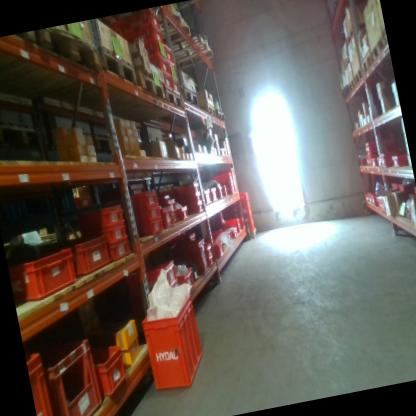pallet: (38, 21, 102, 86), (98, 37, 139, 96), (134, 61, 166, 109), (163, 79, 186, 116), (343, 23, 368, 49), (12, 30, 40, 53), (367, 34, 388, 64), (181, 82, 201, 112), (198, 100, 216, 123), (359, 51, 374, 77), (213, 103, 226, 124), (352, 67, 364, 88), (347, 77, 355, 97), (381, 27, 388, 46), (247, 227, 258, 239)
small_load_carrier: (137, 289, 209, 393), (7, 238, 82, 310), (42, 332, 105, 416), (92, 340, 132, 402), (68, 229, 113, 280), (26, 346, 58, 416), (123, 259, 181, 296), (69, 196, 126, 231), (120, 8, 162, 36), (165, 237, 208, 264), (124, 22, 164, 48), (133, 216, 166, 243), (125, 184, 160, 208), (103, 17, 129, 49), (141, 37, 168, 65), (175, 261, 199, 292), (101, 221, 130, 246), (105, 241, 133, 266), (130, 202, 162, 222), (146, 54, 170, 80), (157, 203, 176, 231), (167, 182, 200, 198), (362, 135, 389, 153), (193, 252, 212, 276), (175, 192, 203, 208), (379, 151, 401, 171), (210, 170, 235, 186), (387, 153, 408, 172), (225, 215, 243, 237), (177, 203, 205, 217), (176, 204, 193, 227), (397, 178, 414, 195), (375, 195, 389, 213), (160, 71, 174, 89), (228, 168, 238, 193), (167, 61, 179, 81), (208, 185, 219, 206), (213, 239, 225, 258), (219, 182, 232, 199), (163, 41, 173, 63), (201, 188, 213, 206), (203, 238, 215, 255), (170, 77, 181, 95), (207, 251, 218, 267), (215, 186, 226, 201), (364, 153, 375, 168), (370, 193, 380, 209), (227, 182, 237, 196), (244, 222, 256, 233), (241, 204, 252, 215), (390, 179, 399, 191), (371, 156, 380, 168), (412, 186, 416, 209), (244, 214, 253, 224), (241, 198, 251, 206), (367, 192, 373, 203), (362, 195, 368, 202)
